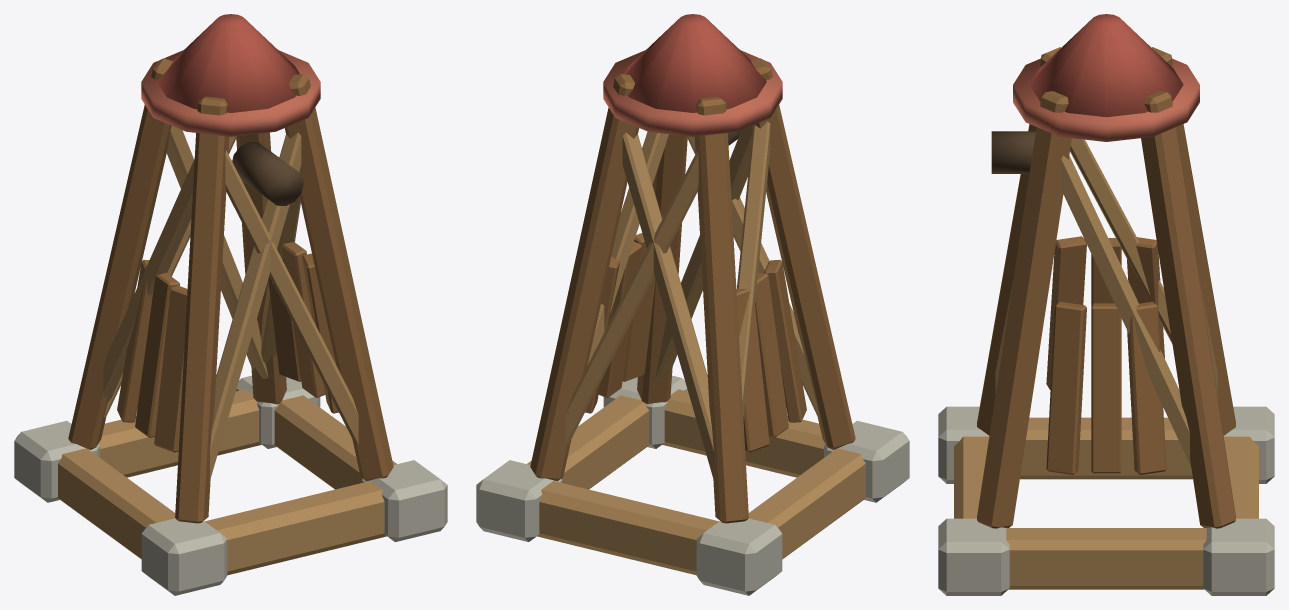
File: deco_windmill.glb
3 renders of one model, left to right at view 1: azimuth 30°, elevation 25°; view 2: azimuth 150°, elevation 25°; view 3: azimuth 270°, elevation 25°, orthographic. The views are drawn at different scales.
Visible parts, largest first — view 1: deco_windmill; view 2: deco_windmill; view 3: deco_windmill.
Part boxes in pixels (<box>): deco_windmill: <box>14,14,447,595</box>; deco_windmill: <box>476,14,909,595</box>; deco_windmill: <box>938,14,1274,595</box>.
Size of the model in its own units: 0.8 by 1.33 by 0.8.
